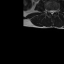CCS_normal: (51, 8, 53, 17)
LFS_normal: (55, 8, 57, 13)
LLS_normal: (53, 8, 55, 14)
RFS_normal: (47, 9, 49, 14)
RLS_normal: (49, 8, 51, 14)
